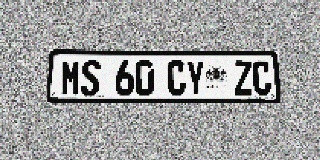0: (135, 60, 154, 96)
6: (115, 60, 134, 96)
C: (167, 60, 186, 96), (252, 61, 271, 95)
M: (61, 60, 81, 96)
S: (81, 60, 101, 96)
Y: (186, 60, 205, 96)
Z: (234, 61, 253, 95)
